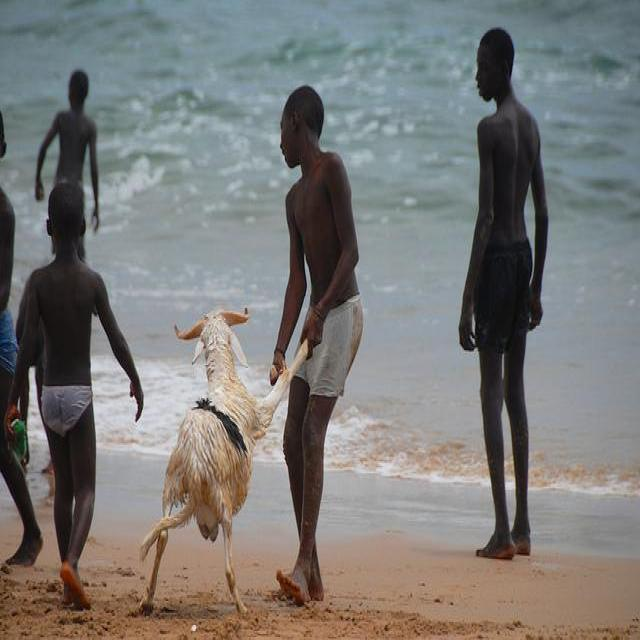Sheep: (139, 311, 308, 620)
